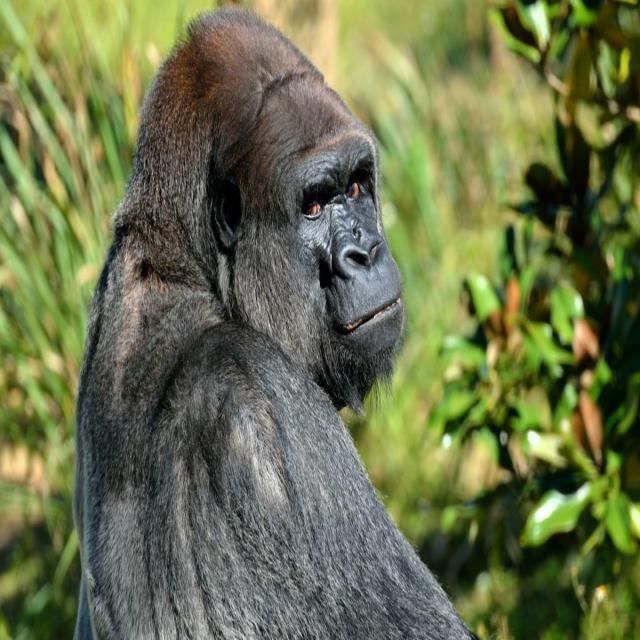Gorilla: (71, 13, 467, 640)
